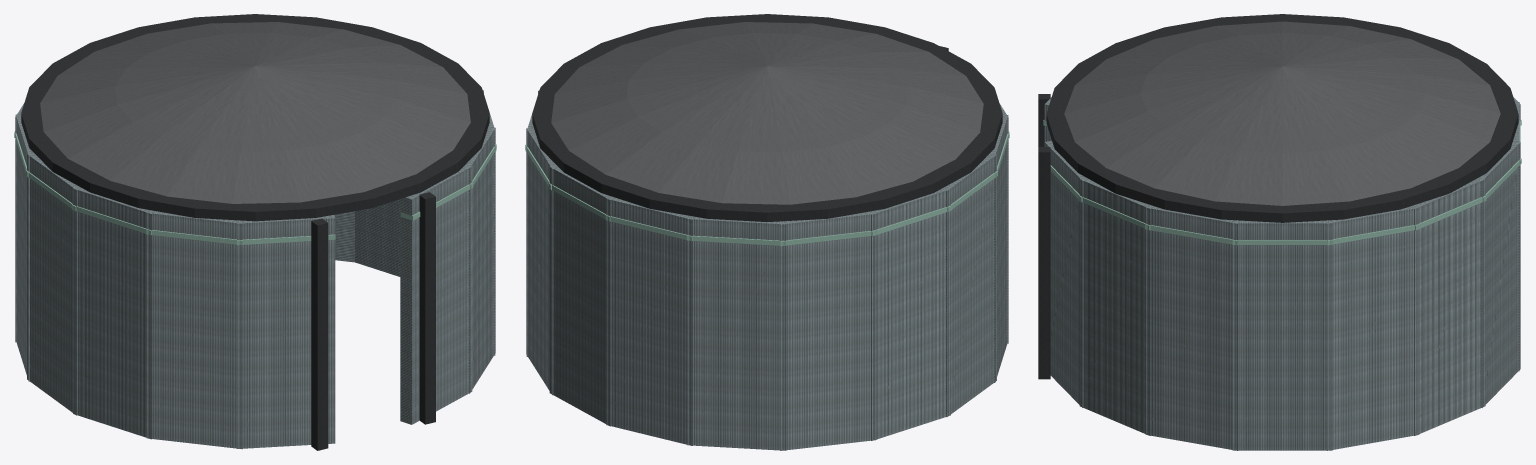
Rendered from vault_seedvault_01.glb.
3 views of the same model, side by side, from view 1: azimuth 30°, elevation 25°; view 2: azimuth 150°, elevation 25°; view 3: azimuth 270°, elevation 25° (orthographic).
Visible parts, largest first — view 1: vault_seedvault_01; view 2: vault_seedvault_01; view 3: vault_seedvault_01.
Part boxes in pixels (<box>): vault_seedvault_01: <box>14,14,496,450</box>; vault_seedvault_01: <box>525,14,1009,450</box>; vault_seedvault_01: <box>1038,14,1521,450</box>.
Size of the model in its own units: 22.91 by 15 by 23.16.
4 materials, 4 textured.
